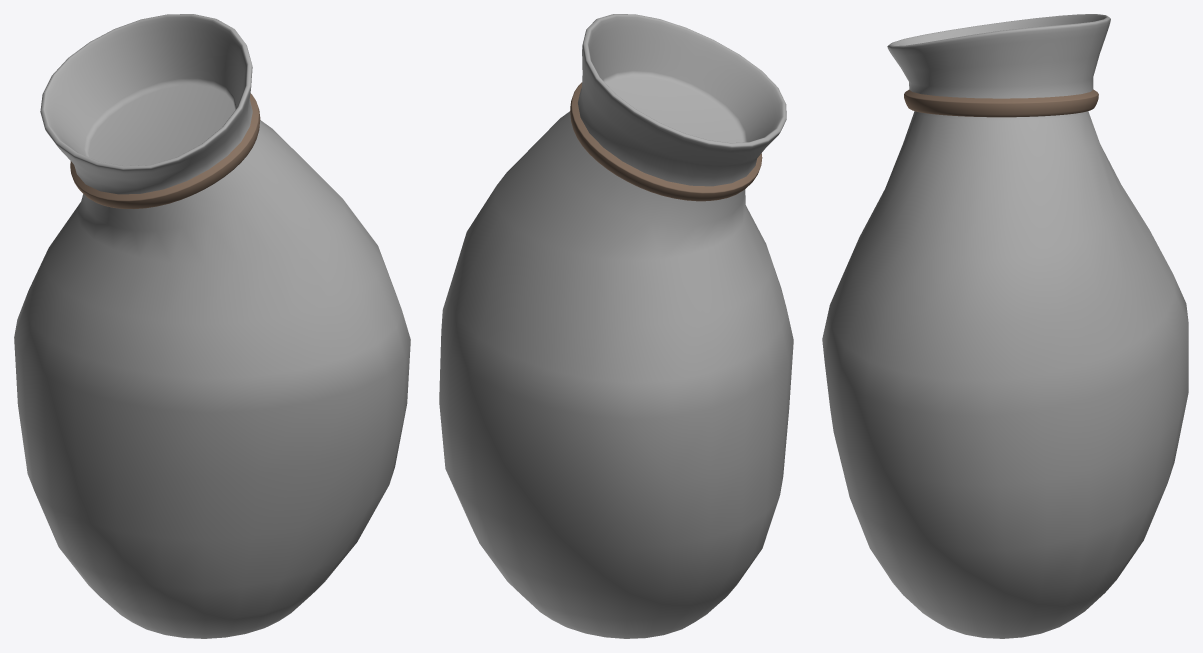
Rendered from SM_Wheatbag_Var2.fbx.
3 renders of one model, left to right at view 1: azimuth 30°, elevation 25°; view 2: azimuth 150°, elevation 25°; view 3: azimuth 270°, elevation 25°, orthographic.
Visible parts, largest first — view 1: SM_Wheatbag_Var2; view 2: SM_Wheatbag_Var2; view 3: SM_Wheatbag_Var2.
Part boxes in pixels (x1=…): SM_Wheatbag_Var2: x1=14, y1=14, x2=410, y2=638; SM_Wheatbag_Var2: x1=439, y1=14, x2=793, y2=638; SM_Wheatbag_Var2: x1=822, y1=14, x2=1188, y2=638.
Bounding box in the file's own units: 39.06 × 65.77 × 37.21.
